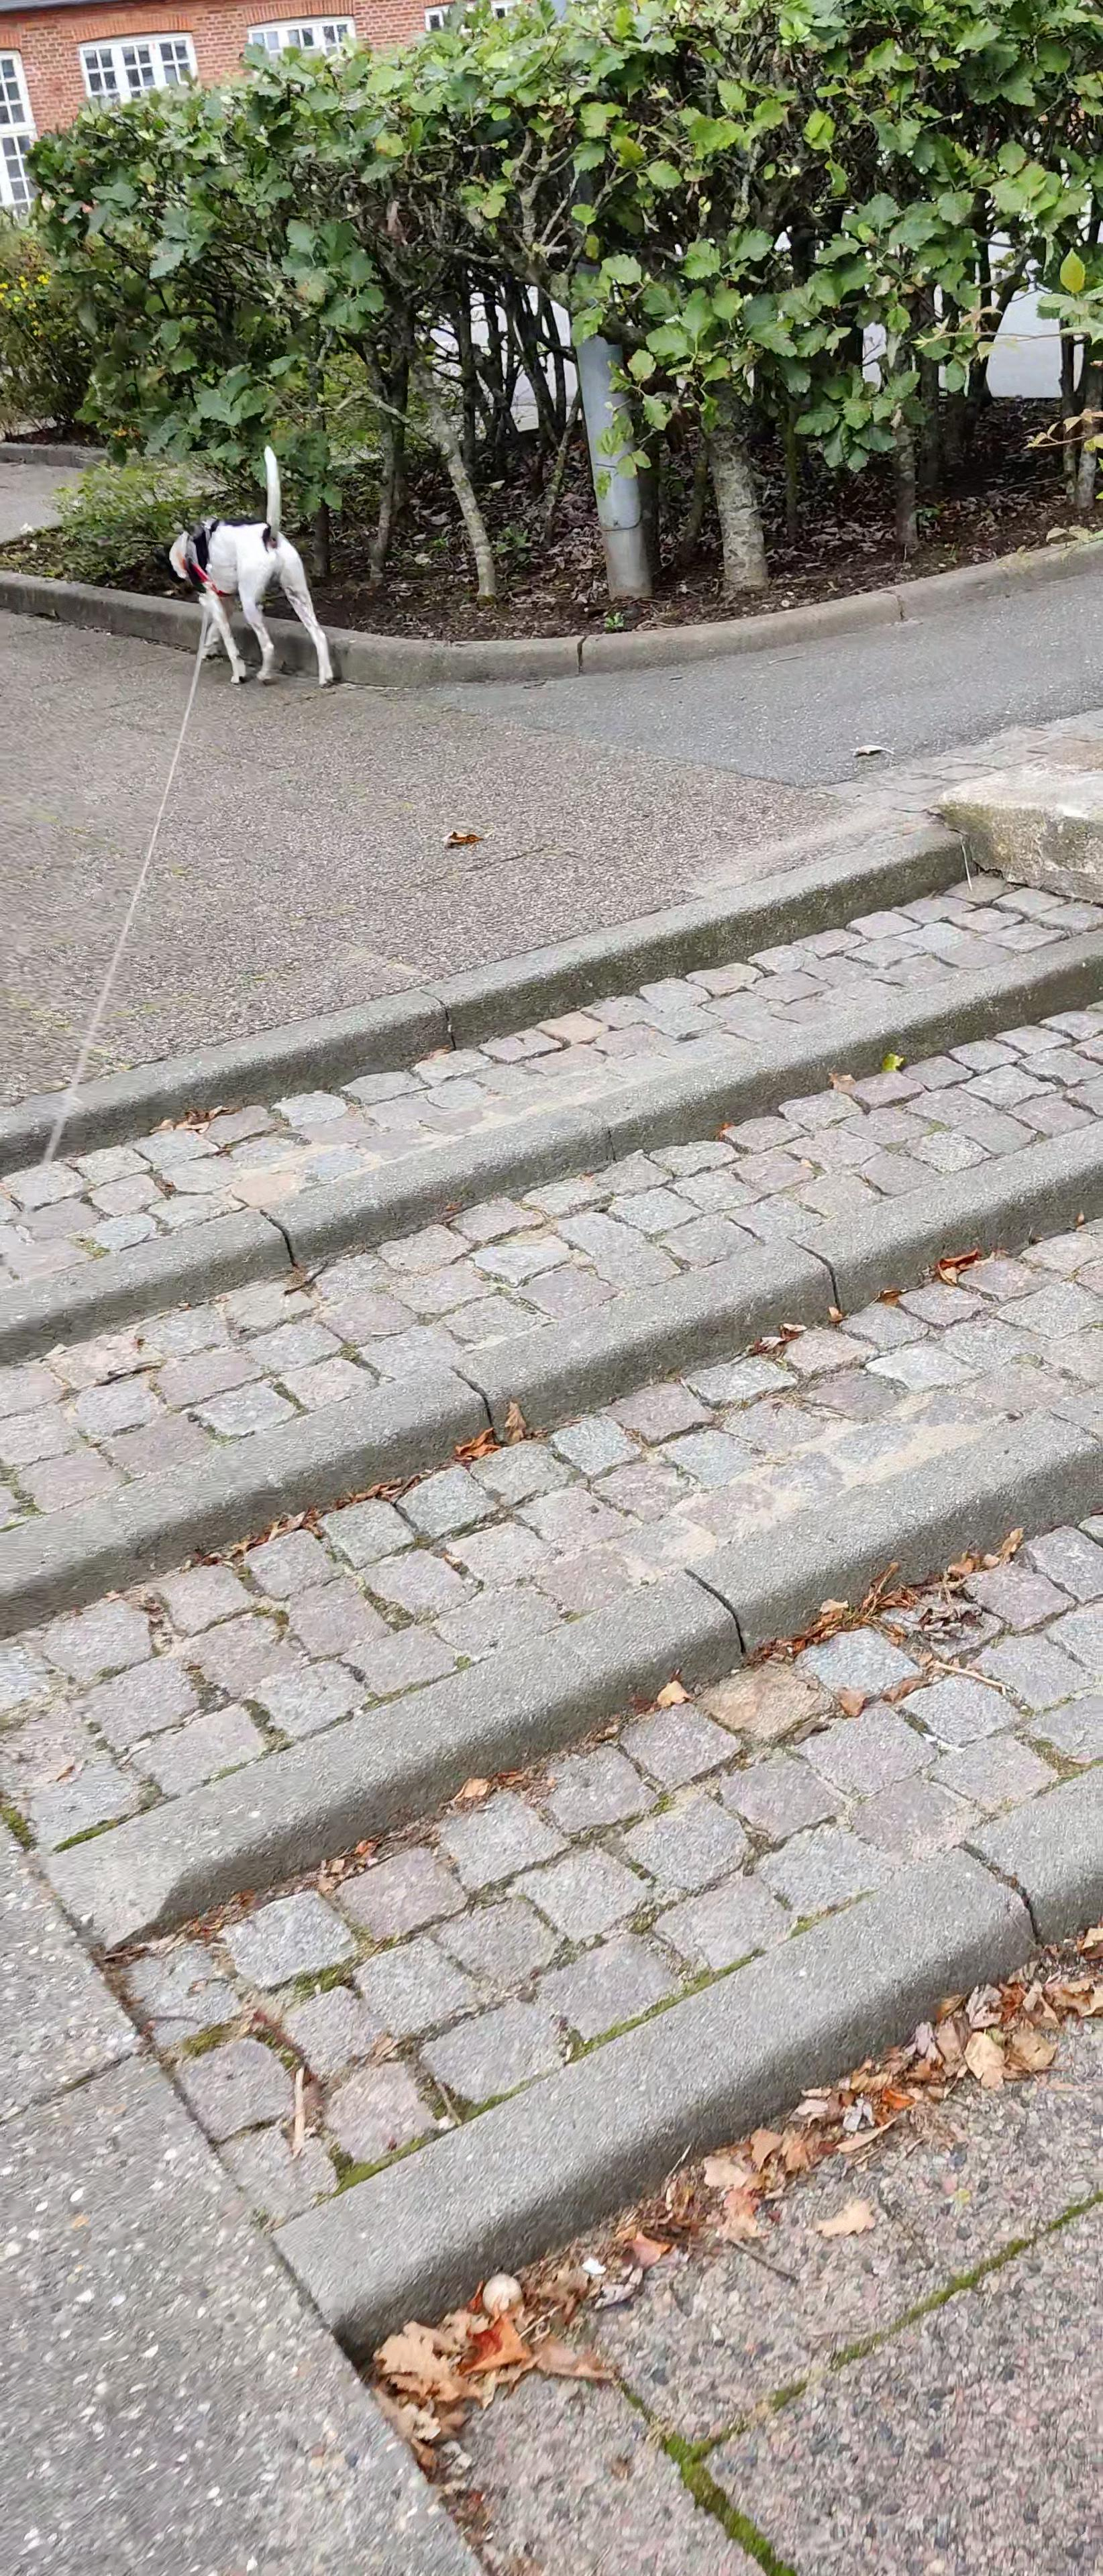Dog: (125, 435, 344, 700)
